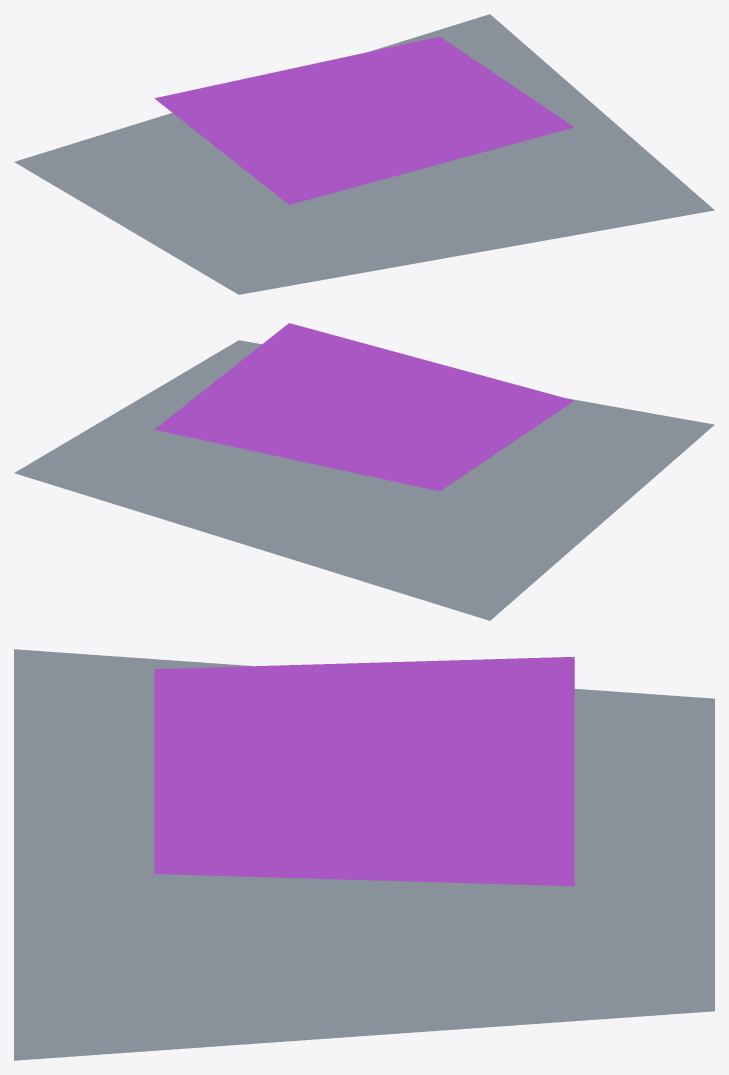
File: CH_CriticalPointBomber_LOD2.glb
3 renders of one model, top to bottom at view 1: azimuth 30°, elevation 25°; view 2: azimuth 150°, elevation 25°; view 3: azimuth 270°, elevation 25°, orthographic. The views are drawn at different scales.
Parts seen in each view (by area): view 1: EntranceGate; view 2: EntranceGate; view 3: EntranceGate.
Part boxes in pixels (box(x1,y1,x2,y2)): EntranceGate: box(14, 14, 714, 294); EntranceGate: box(14, 323, 714, 620); EntranceGate: box(14, 649, 714, 1060).
Size of the model in its own units: 880 by 130 by 720.
